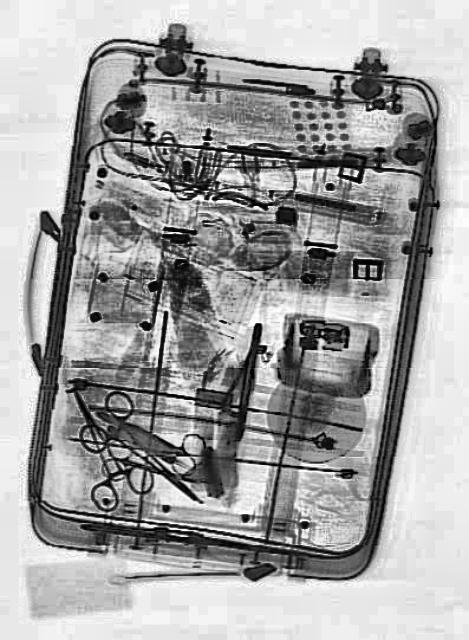Scissors: (72, 378, 220, 534), (46, 370, 156, 522), (102, 394, 210, 488), (94, 431, 170, 504)
